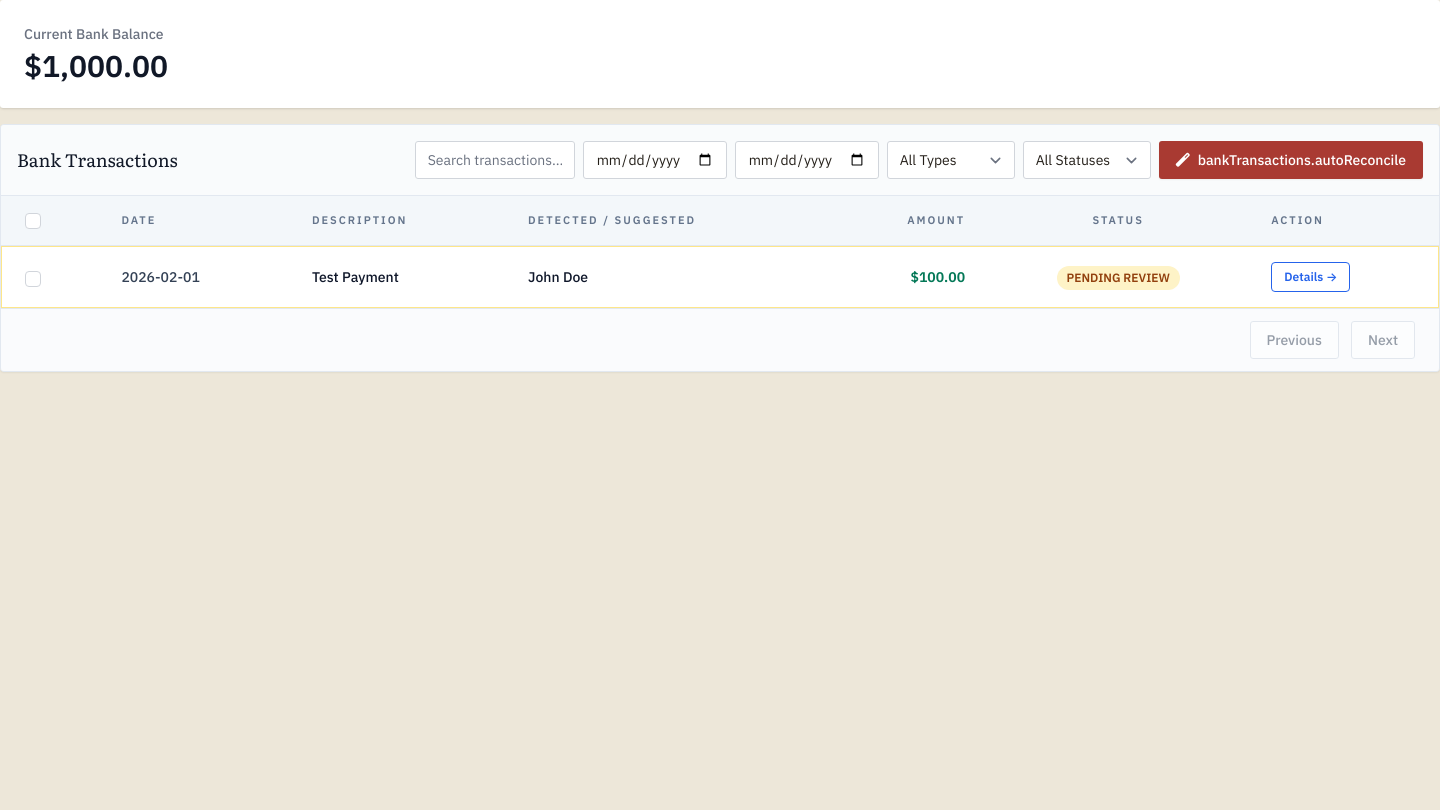
Test: BankTransactionList › opens detail panel when Details button is clicked
Check: the text "Test Payment" is shown, box top-left (312, 268), bottom-right (399, 286)
Step 1. Click the button "Details →" → (1311, 277), box top-left (1271, 262), bottom-right (1350, 292)
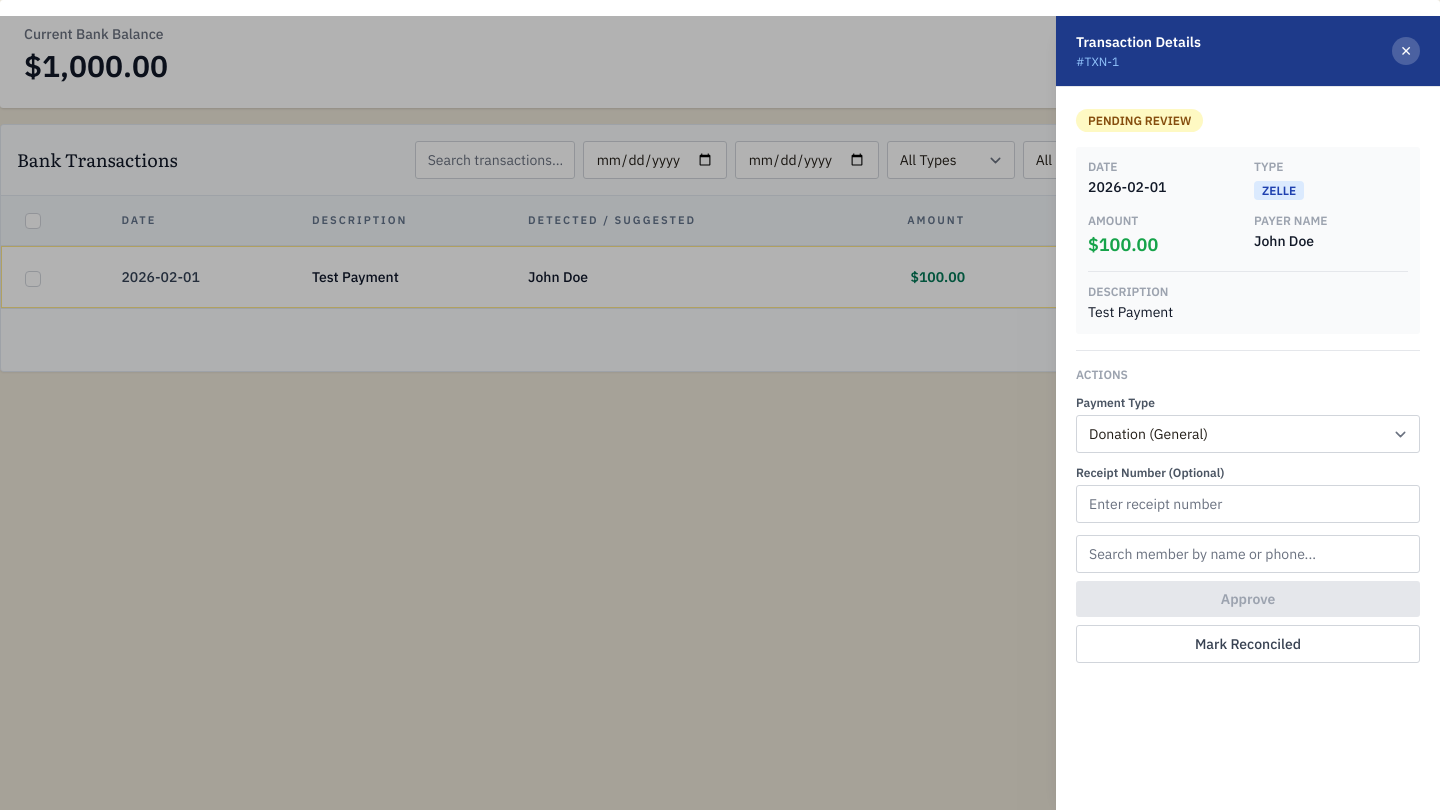
Check: the dialog "Transaction Details" is shown, box top-left (1056, 16), bottom-right (1439, 809)
